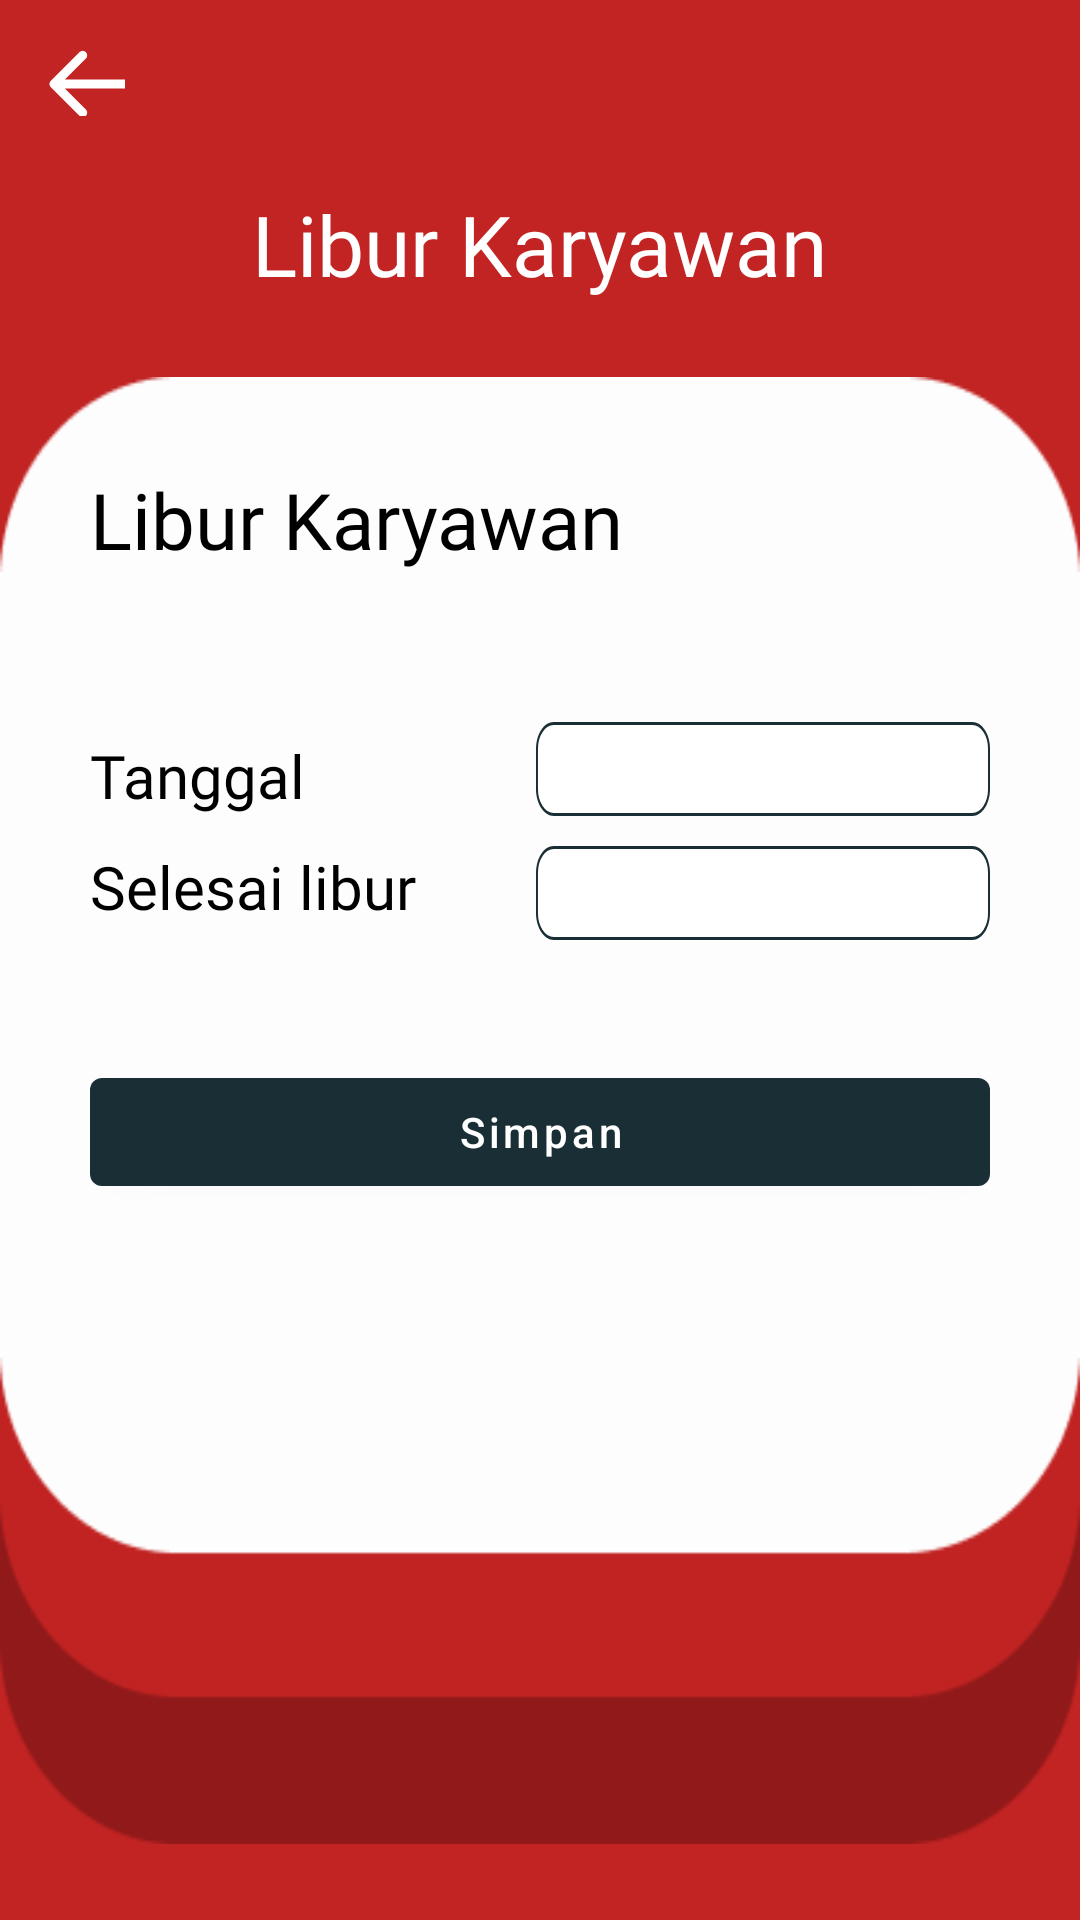

Screen size 1080×1920. Icon name, then its box in pixels as (x1, y1, x2, y2):
back: (49, 50, 125, 116)
